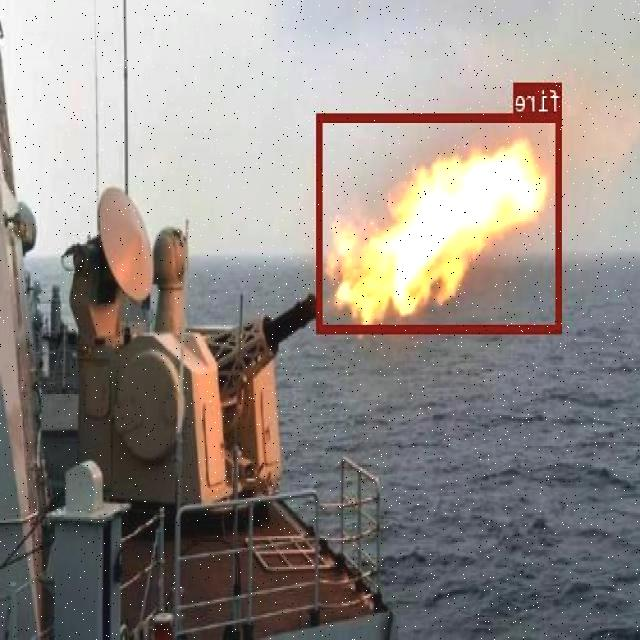fire: (317, 113, 564, 332)
